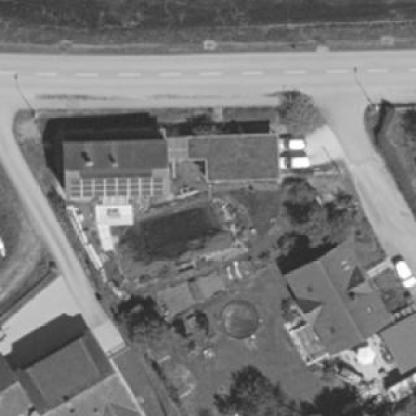solar-pv-panel: (71, 177, 164, 197)
